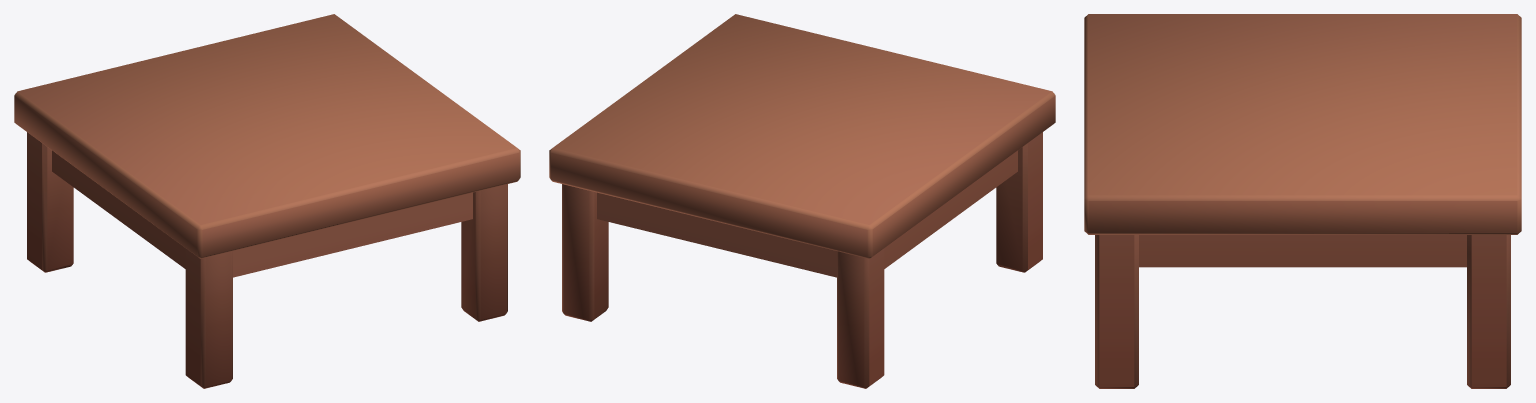
File: kay-mesa-jantar.gltf
3 views of the same model, side by side, from view 1: azimuth 30°, elevation 25°; view 2: azimuth 150°, elevation 25°; view 3: azimuth 270°, elevation 25° (orthographic). The views are drawn at different scales.
Visible parts, largest first — view 1: table_medium; view 2: table_medium; view 3: table_medium.
Boxes of the visible parts, <box> form: table_medium: <box>14,14,520,388</box>; table_medium: <box>549,14,1055,388</box>; table_medium: <box>1084,14,1521,388</box>.
Bounding box in the file's own units: 1.3 × 0.6501 × 1.3.
1 material, 1 textured.
